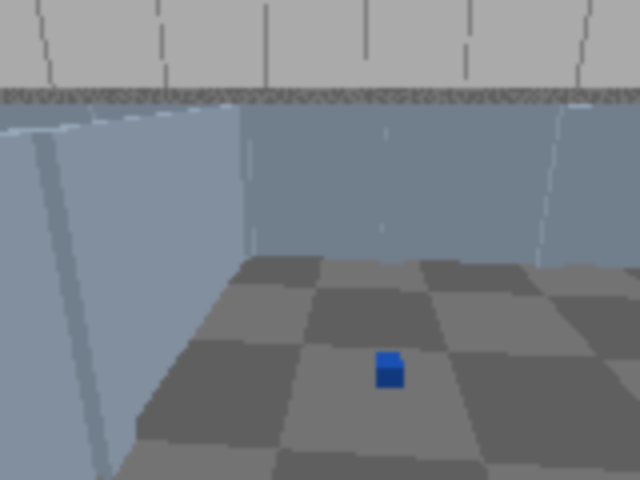puck: (374, 353, 404, 388)
